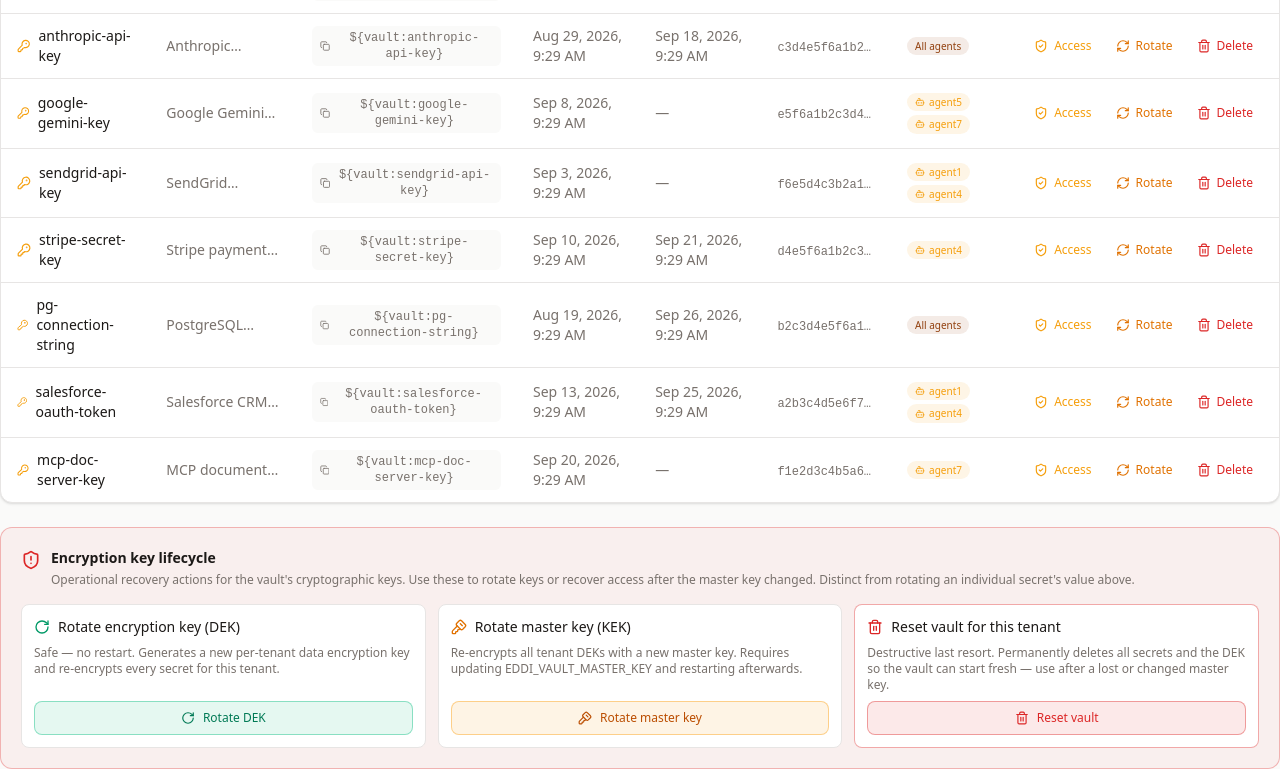
Test: SecretsPage — key lifecycle danger zone › KEK confirm stays disabled until old key present and new key >= 8 chars
(page scrolled)
Click the button with test id "open-rotate-kek": coordinates (640, 718) [451,701,829,735]
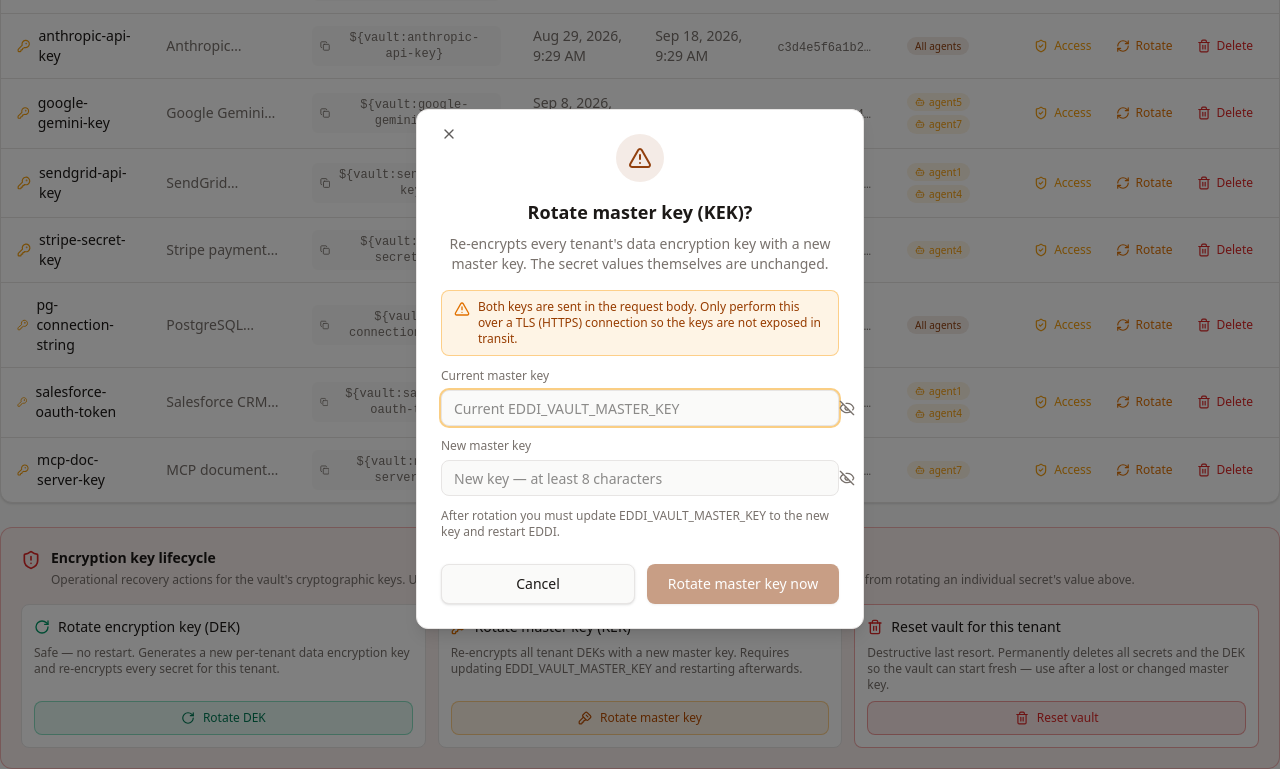
Now the button "Rotate master key now" is disabled, box [647,564,839,604]
Old key present but new key too short → still disabled + error shown.
In the password field with test id "kek-old-key-input": coordinates (640, 408) [441,390,839,426], type "old-master-key"
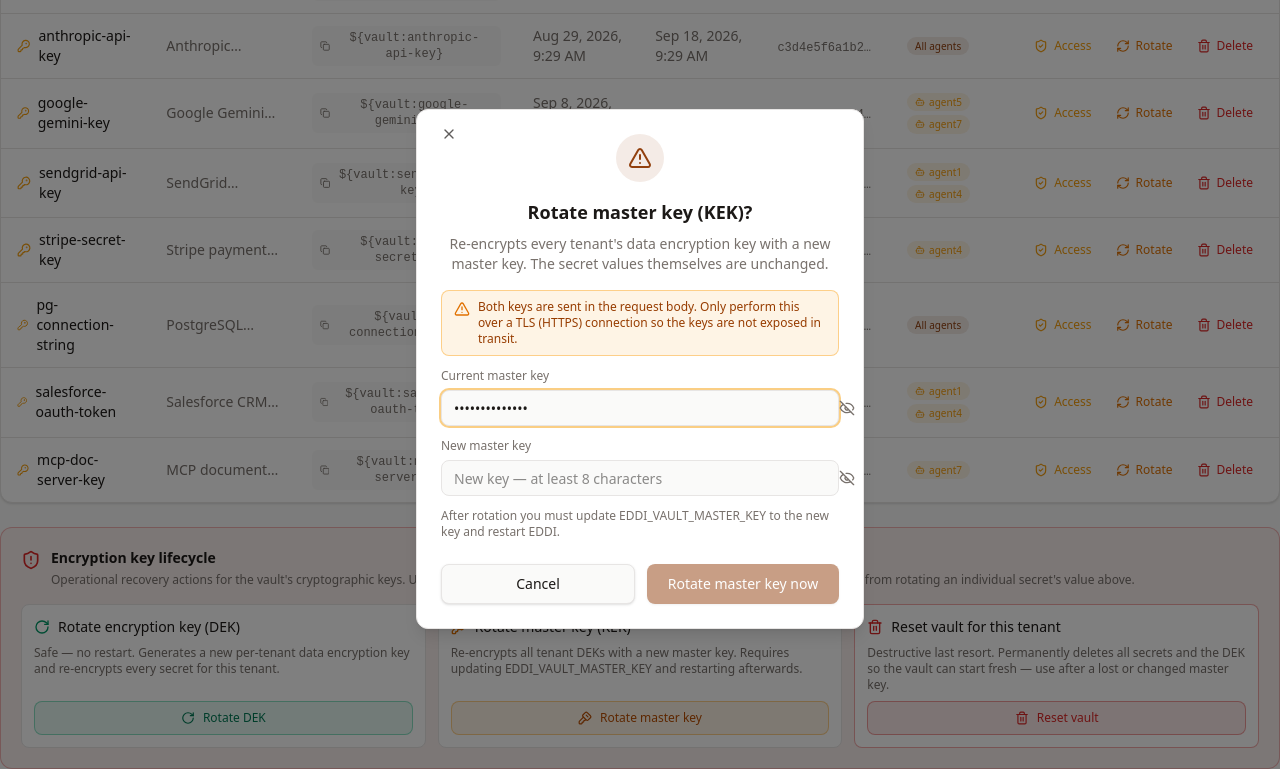
In the password field with test id "kek-new-key-input": coordinates (640, 478) [441,460,839,496], type "short"
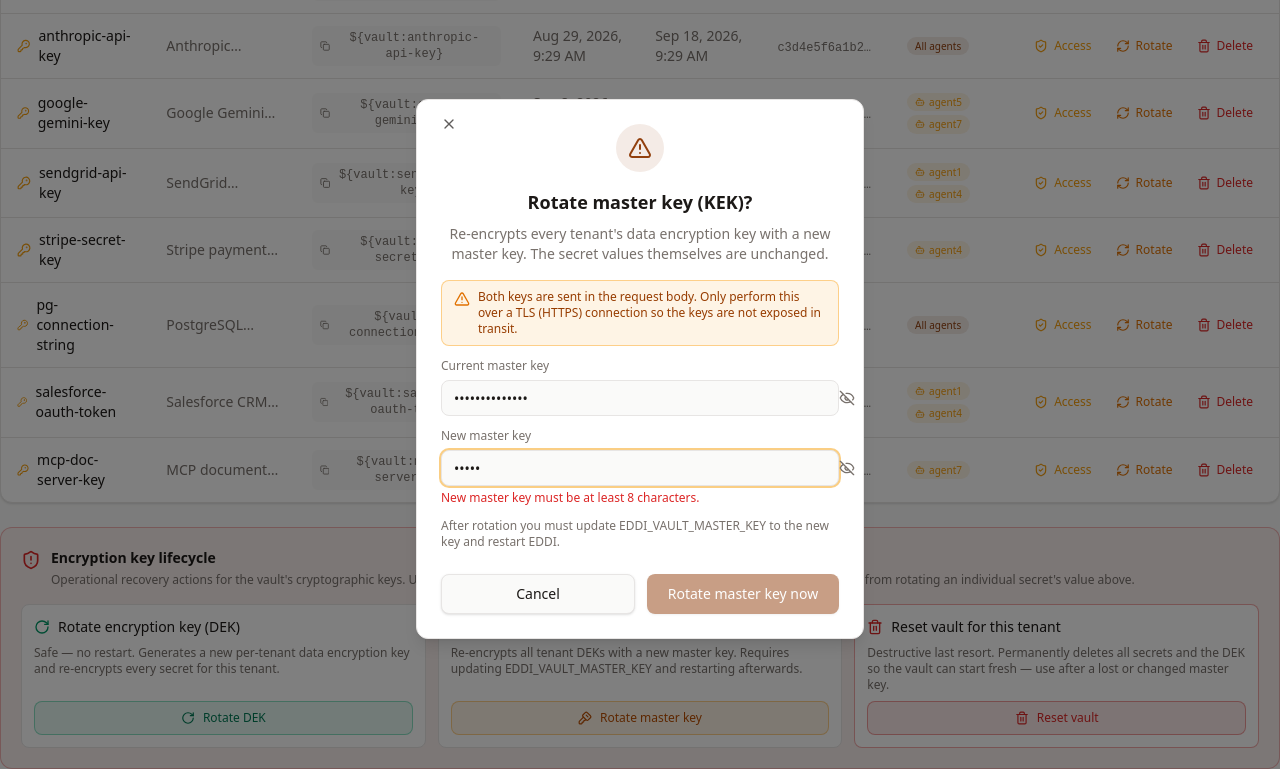
Now the button "Rotate master key now" is disabled, box [647,574,839,614]
Now the text "New master key must be at least 8 characters." is shown, box [441,489,700,506]
Extend the new key past the 8-char minimum → enabled.
In the password field with test id "kek-new-key-input": coordinates (640, 468) [441,450,839,486], type "-enough"
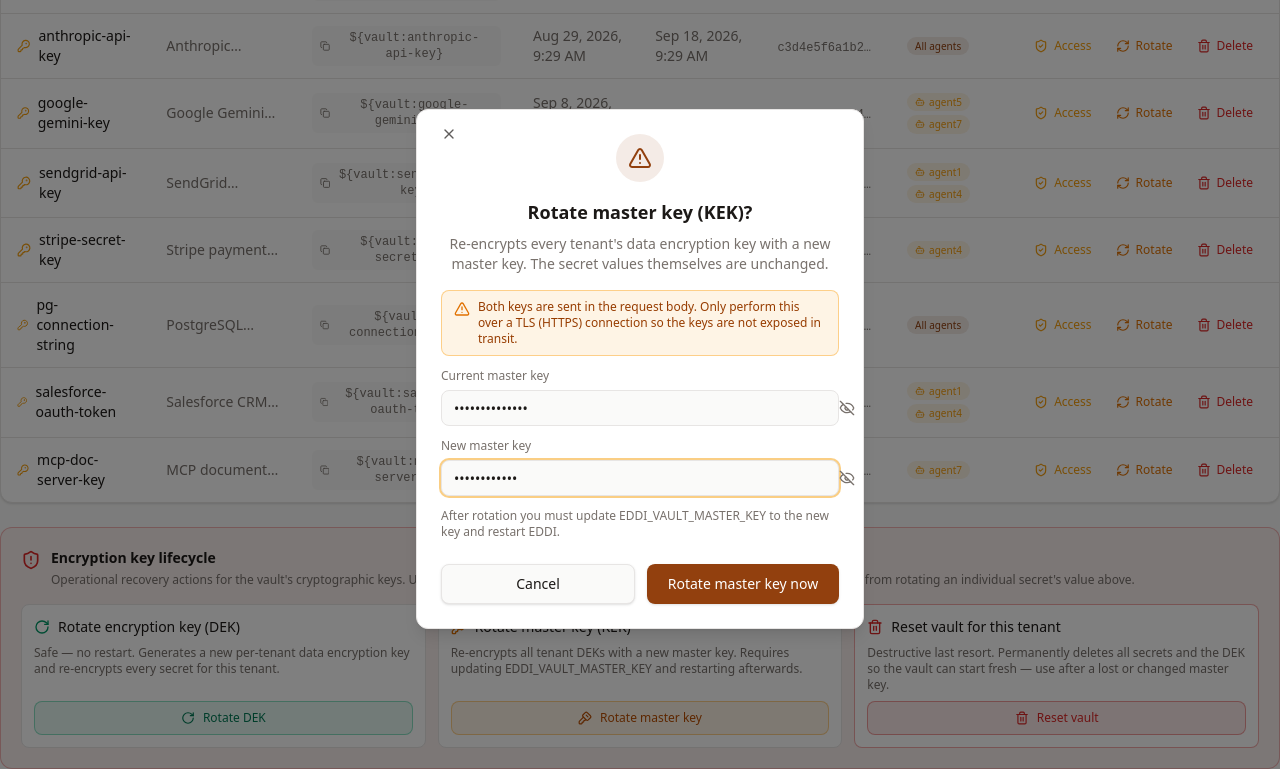
Now the button "Rotate master key now" is enabled, box [647,564,839,604]
